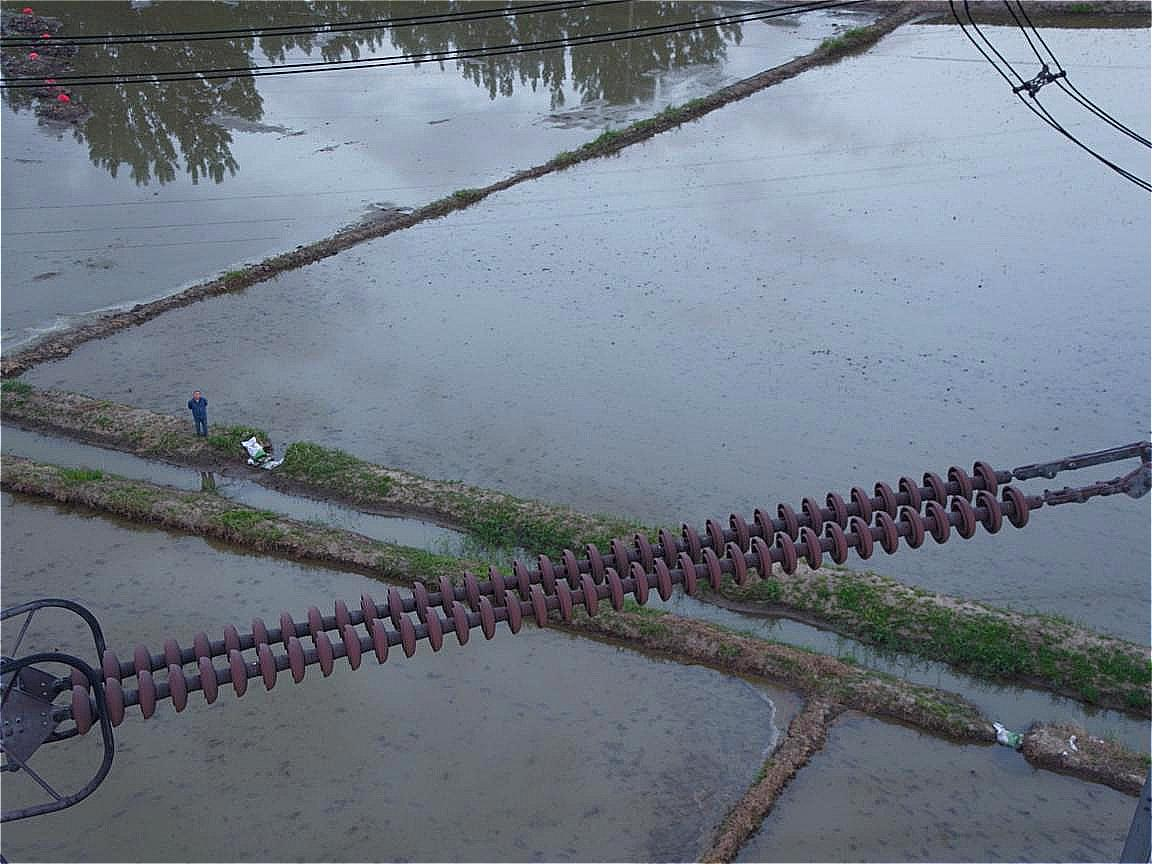insultor1: (47, 446, 1044, 763)
